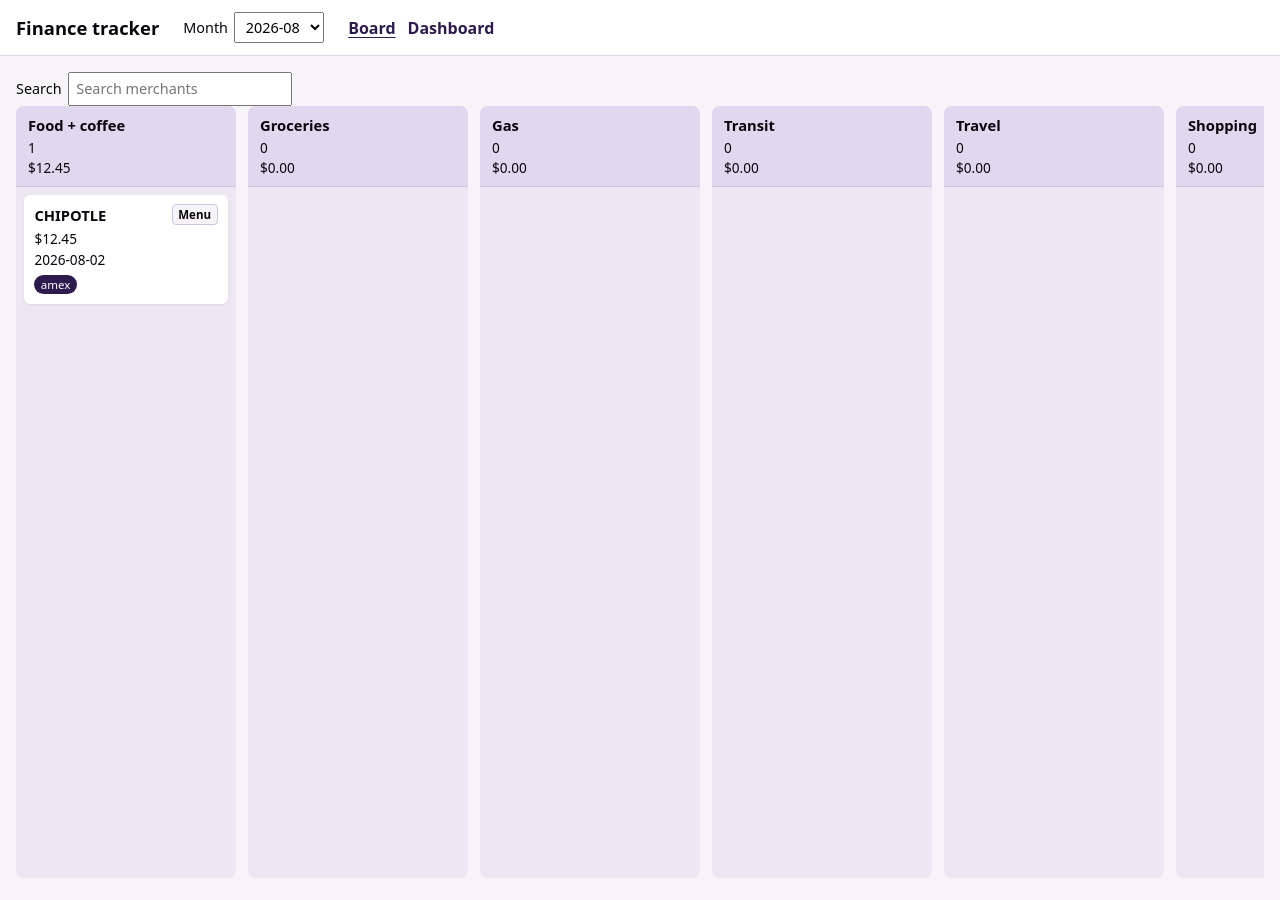
it: App shell navigation › leaves the kanban when Dashboard is clicked and hides merchant search
Click the link "Dashboard" at point(451, 28), box [408, 16, 494, 40]
(page scrolled)
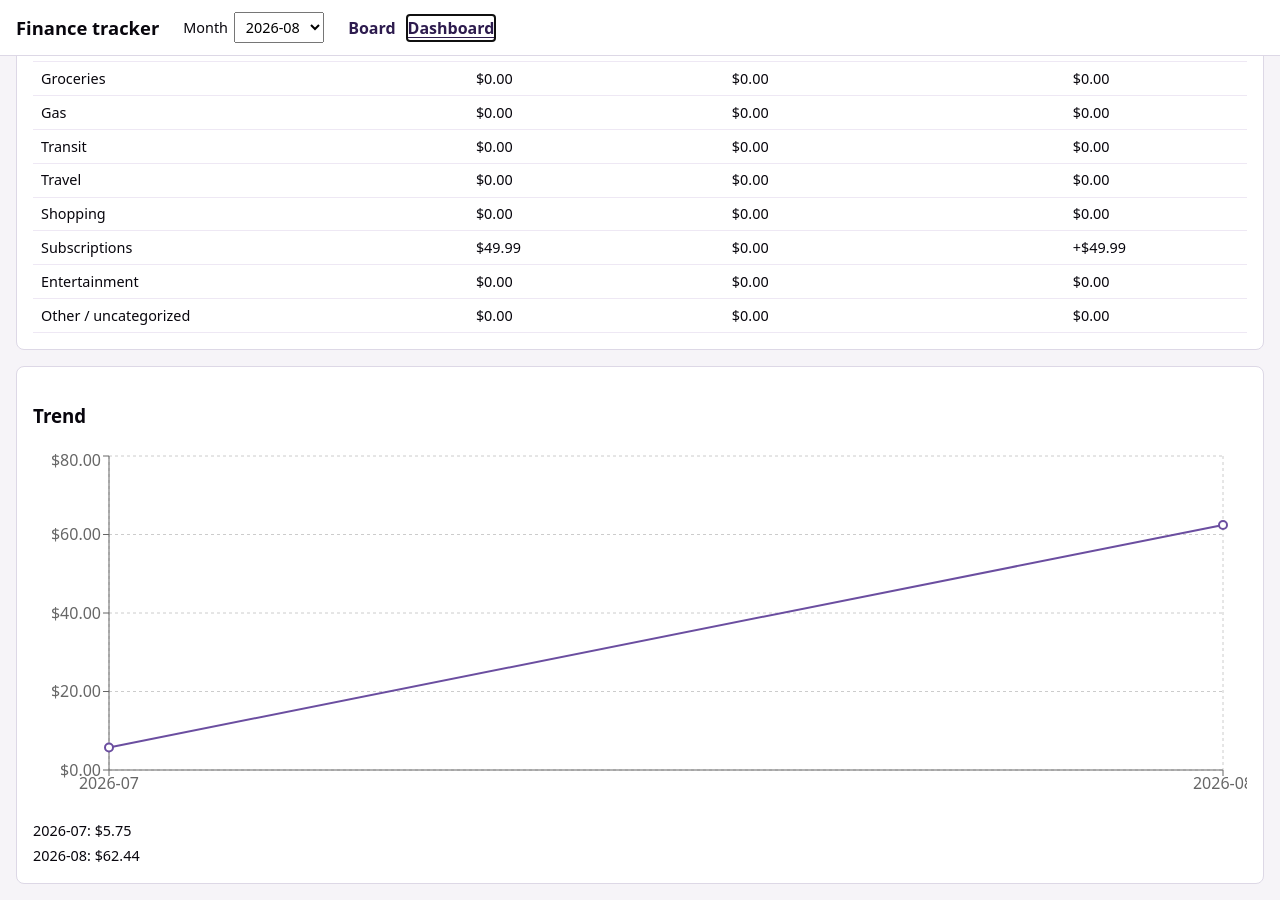
expect the search field labelled "Search merchants" is not shown: met
expect the element with test id "board" is gone: met
expect the element with test id "dashboard-trend" is shown: met, box [16, 366, 1264, 884]
